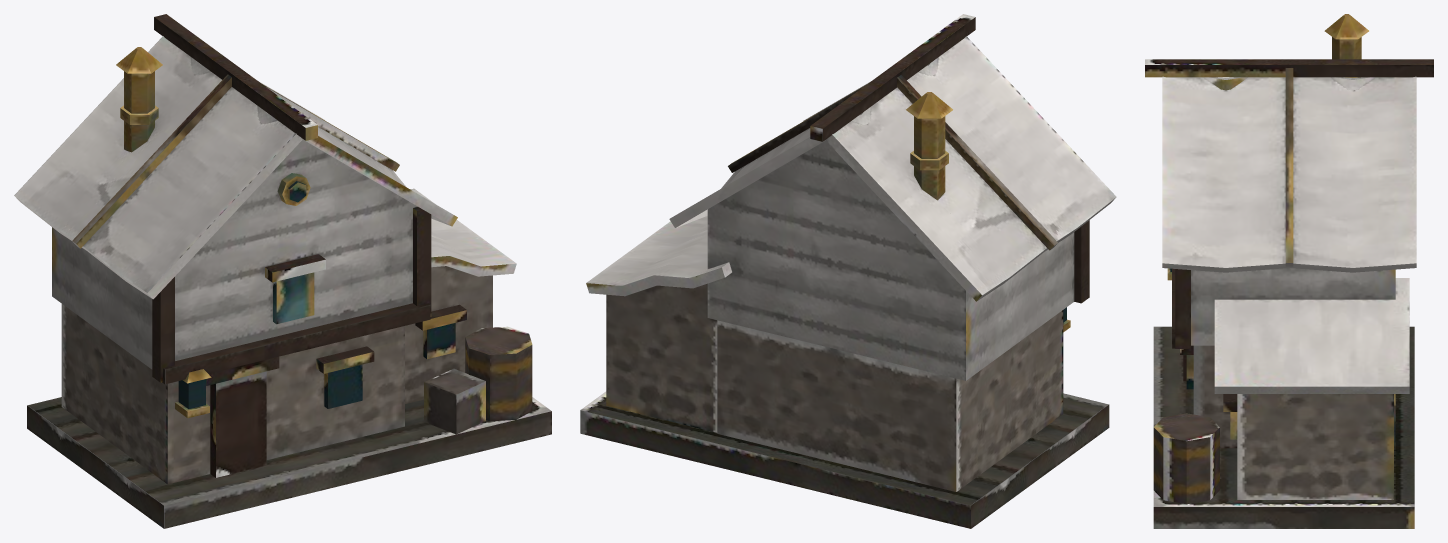
The model's file is pirate_stone_homestead.glb.
3 views of the same model, side by side, from view 1: azimuth 30°, elevation 25°; view 2: azimuth 150°, elevation 25°; view 3: azimuth 270°, elevation 25° (orthographic). The views are drawn at different scales.
Visible parts, largest first — view 1: FixedDetails, WoodBody, BrassTrim; view 2: WoodBody, FixedDetails, BrassTrim; view 3: WoodBody, FixedDetails, BrassTrim.
Boxes of the visible parts, box(x1,y1,x2,y2) form: FixedDetails: box(27, 14, 551, 528); WoodBody: box(14, 36, 516, 369); BrassTrim: box(116, 47, 310, 418); WoodBody: box(586, 36, 1116, 380); FixedDetails: box(580, 14, 1109, 528); BrassTrim: box(906, 92, 1070, 332); WoodBody: box(1162, 76, 1416, 393); FixedDetails: box(1145, 59, 1433, 528); BrassTrim: box(1167, 14, 1368, 280).
Size of the model in its own units: 0.2568 by 0.234 by 0.166.
Materials: 3 (3 with a texture image).
